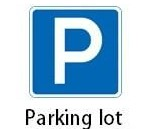Traffic signal: (27, 5, 124, 100)
